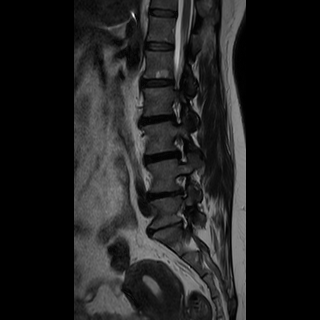LFS0: (165, 131, 197, 169), (169, 171, 197, 200)
